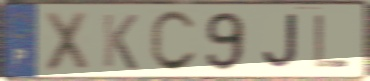9: (204, 10, 249, 73)
C: (148, 8, 200, 75)
J: (260, 11, 299, 71)
K: (101, 12, 140, 72)
L: (312, 13, 352, 70)
X: (43, 9, 92, 75)
